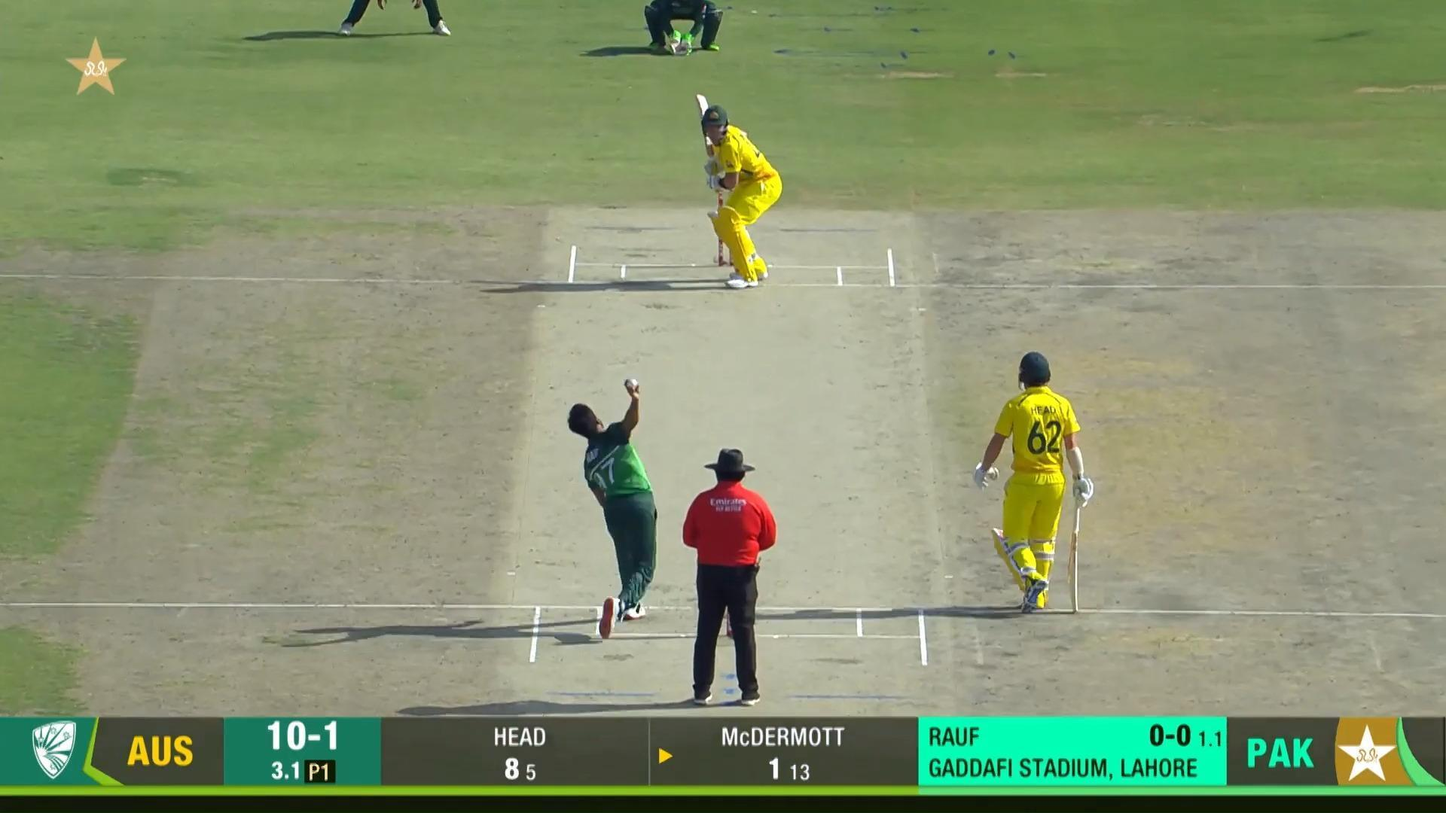BM 1: (695, 94, 784, 290)
BO: (566, 376, 662, 640)
